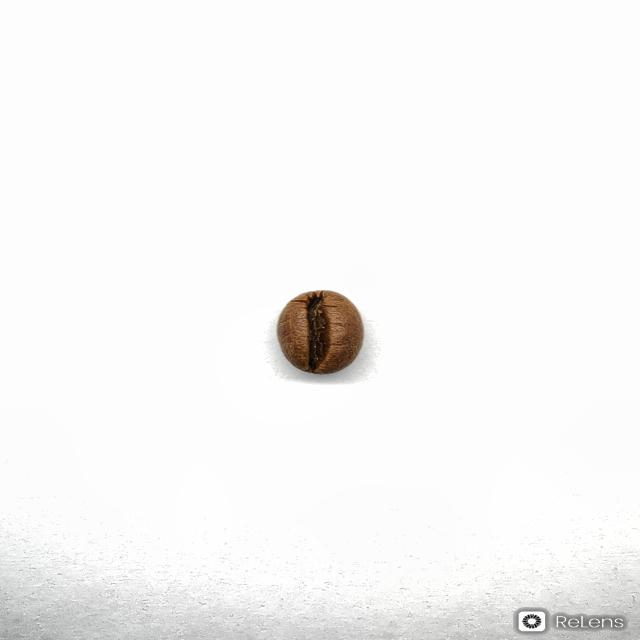Good bean: (275, 289, 364, 374)
